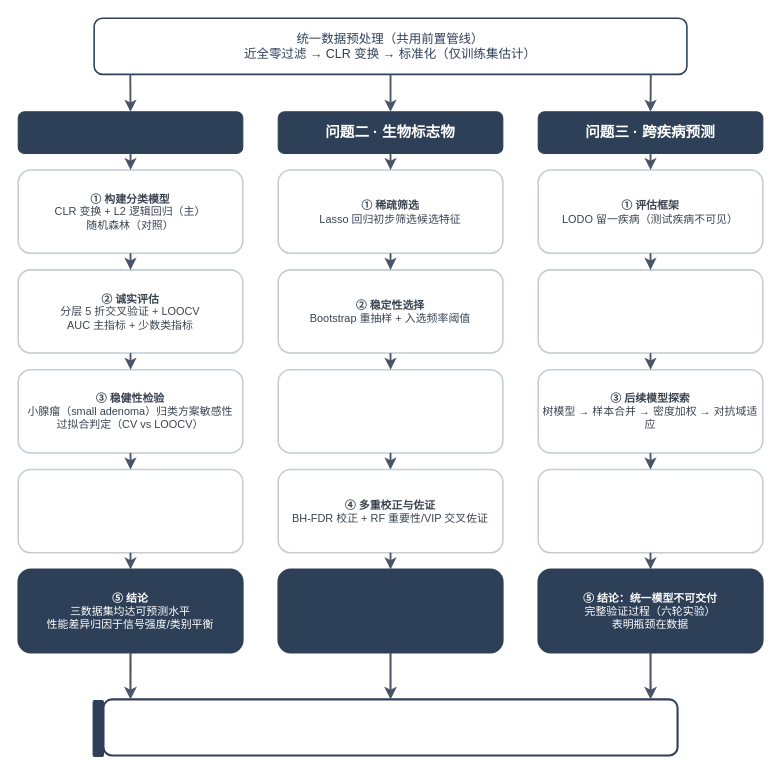
This 782x776 diagram has some shape labels left out. The centre of each missing label's shape, as x and y in pixels:
② 策略对比 直接迁移 / 共享标志物 / 聚合 / 输出概率修正: (650,311)
③ 两路信号验证 Fisher（存在/缺失）+ Wilcoxon（丰度）: (390,410)
④ 归因分析 衰减三分法 + 共享方向 + 阈值漂移: (650,510)
④ 阈值与可解释 Youden 阈值选择 L2 系数 → 微生物方向信号: (130,510)
⑤ 结论：稳定标志物确定 与文献已知标志物比对验证 跨疾病重叠（Jaccard）检查: (390,610)
总结论 ：域内疾病可预测、标志物获文献验证； 跨疾病统一模型不可交付——完整验证过程表明瓶颈为数据固有限制: (390,727)
问题一 · 疾病预测: (130,132)
